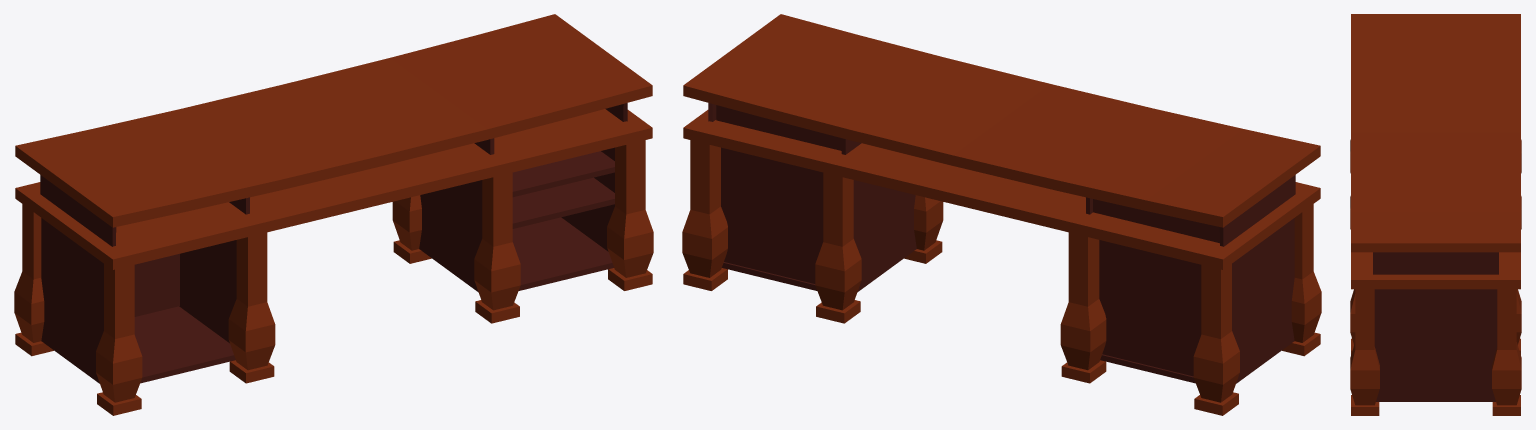
File: Desk_1.fbx
3 views of the same model, side by side, from view 1: azimuth 30°, elevation 25°; view 2: azimuth 150°, elevation 25°; view 3: azimuth 270°, elevation 25° (orthographic). The views are drawn at different scales.
Parts seen in each view (by area): view 1: Wealth_Desk #1; view 2: Wealth_Desk #1; view 3: Wealth_Desk #1.
Boxes of the visible parts, left/top/right/bottom form: Wealth_Desk #1: left=14, top=14, right=653, bottom=415; Wealth_Desk #1: left=682, top=14, right=1321, bottom=415; Wealth_Desk #1: left=1350, top=14, right=1521, bottom=415.
Bounding box in the file's own units: 267 × 93.93 × 84.4.
